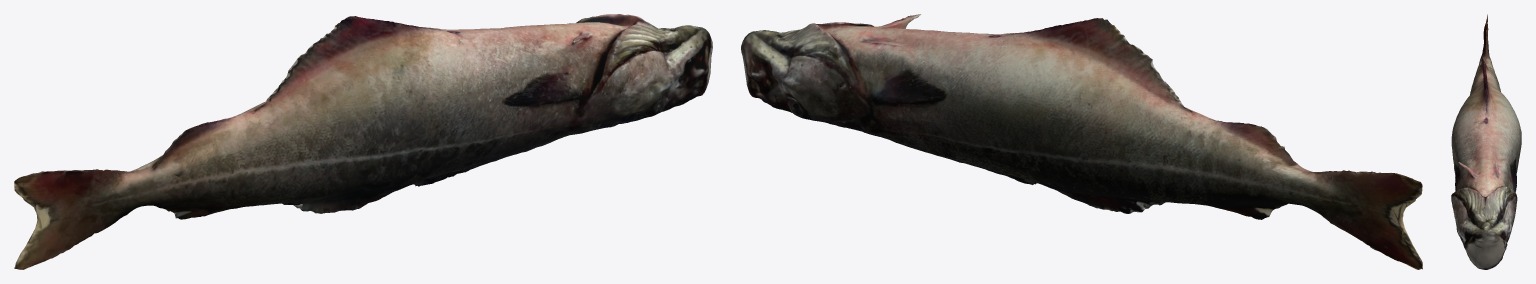
Rendered from fish-patrol.glb.
The picture shows the model from 3 angles, left to right: view 1: azimuth 30°, elevation 25°; view 2: azimuth 150°, elevation 25°; view 3: azimuth 270°, elevation 25°; orthographic projection. The views are drawn at different scales.
Parts seen in each view (by area): view 1: Artec actual fish scan; view 2: Artec actual fish scan; view 3: Artec actual fish scan.
Boxes of the visible parts, <box> form: Artec actual fish scan: <box>14,14,712,269</box>; Artec actual fish scan: <box>741,14,1422,269</box>; Artec actual fish scan: <box>1451,14,1521,269</box>.
Bounding box in the file's own units: 1.16 × 0.3114 × 0.1632.
1 material, 1 textured.
